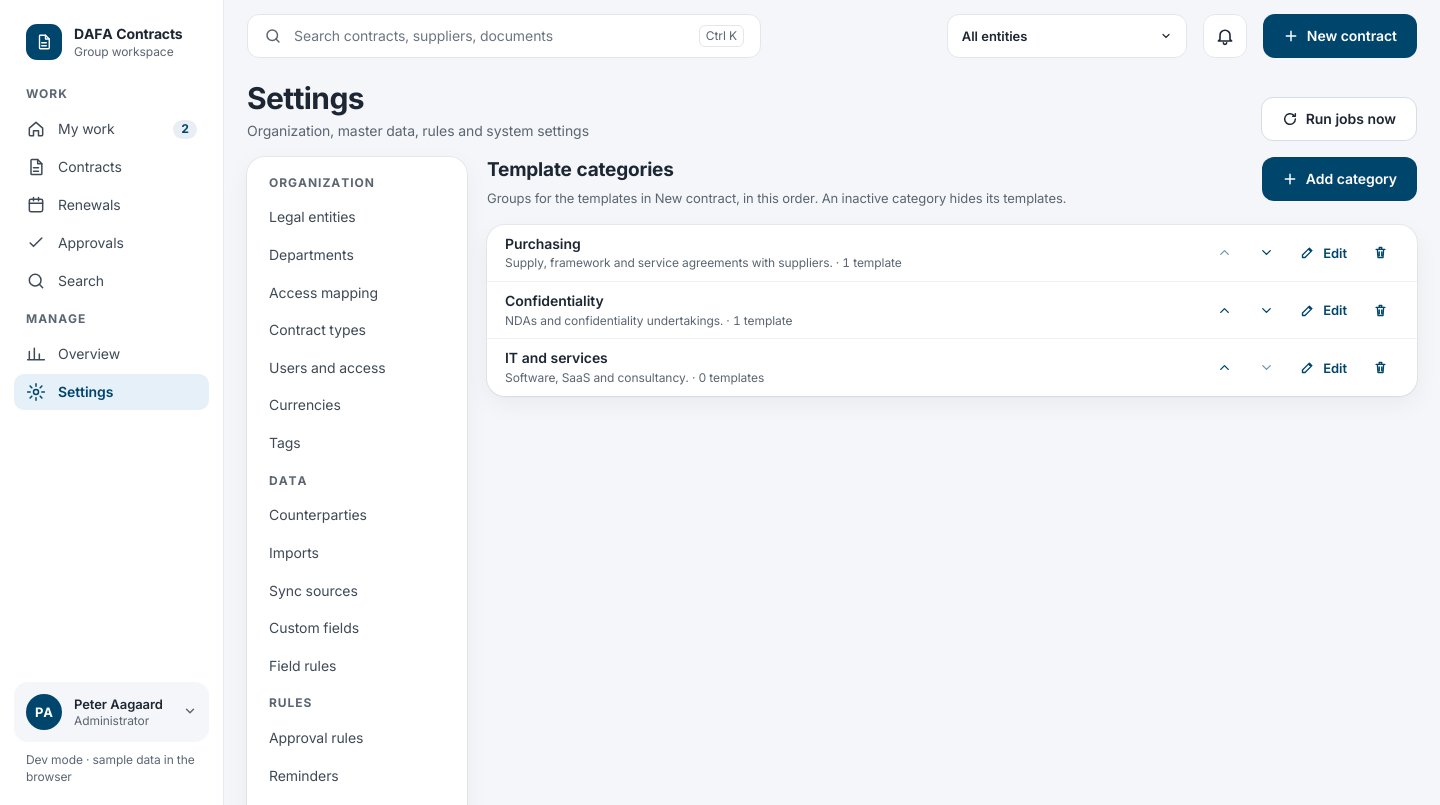
Test: Templates by category (owner item E) › an admin adds a category and it is listed
Click the button "Add category" at (1339, 179), box left=1262, top=157, right=1417, bottom=201
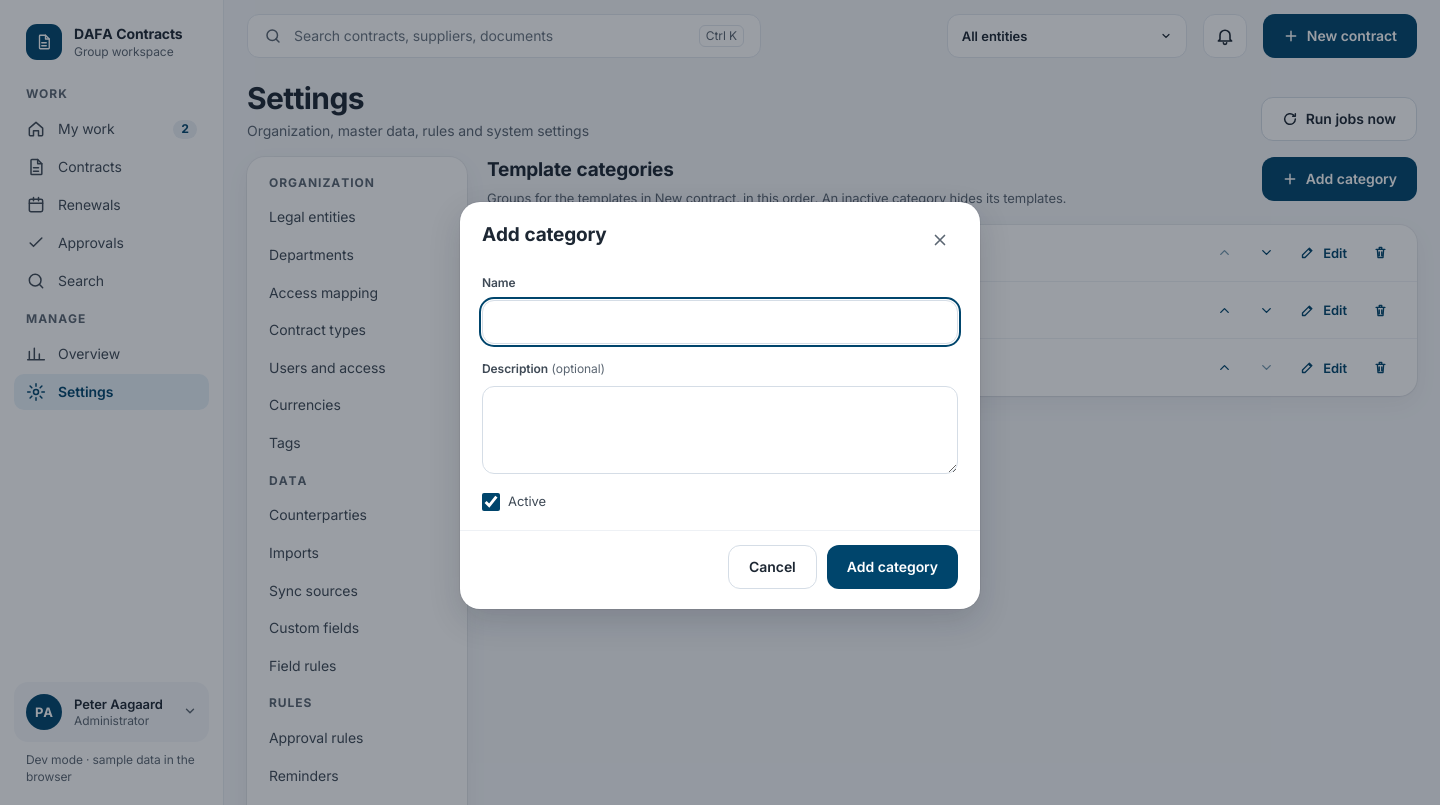
Type "Logistics" into the field labelled "Name" at (720, 322), box left=482, top=300, right=958, bottom=344
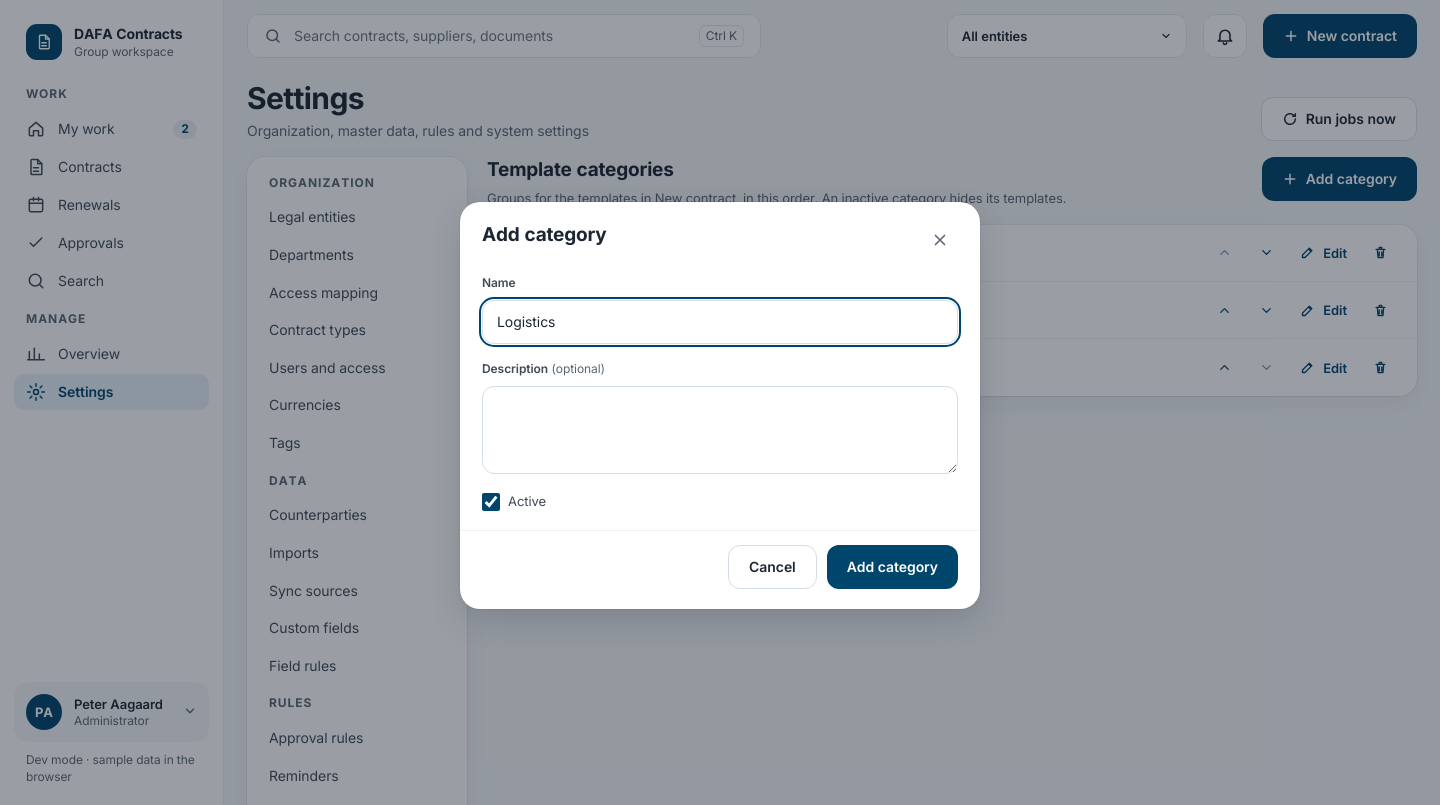
Click the button "Add category" at (892, 566), box left=827, top=544, right=958, bottom=588
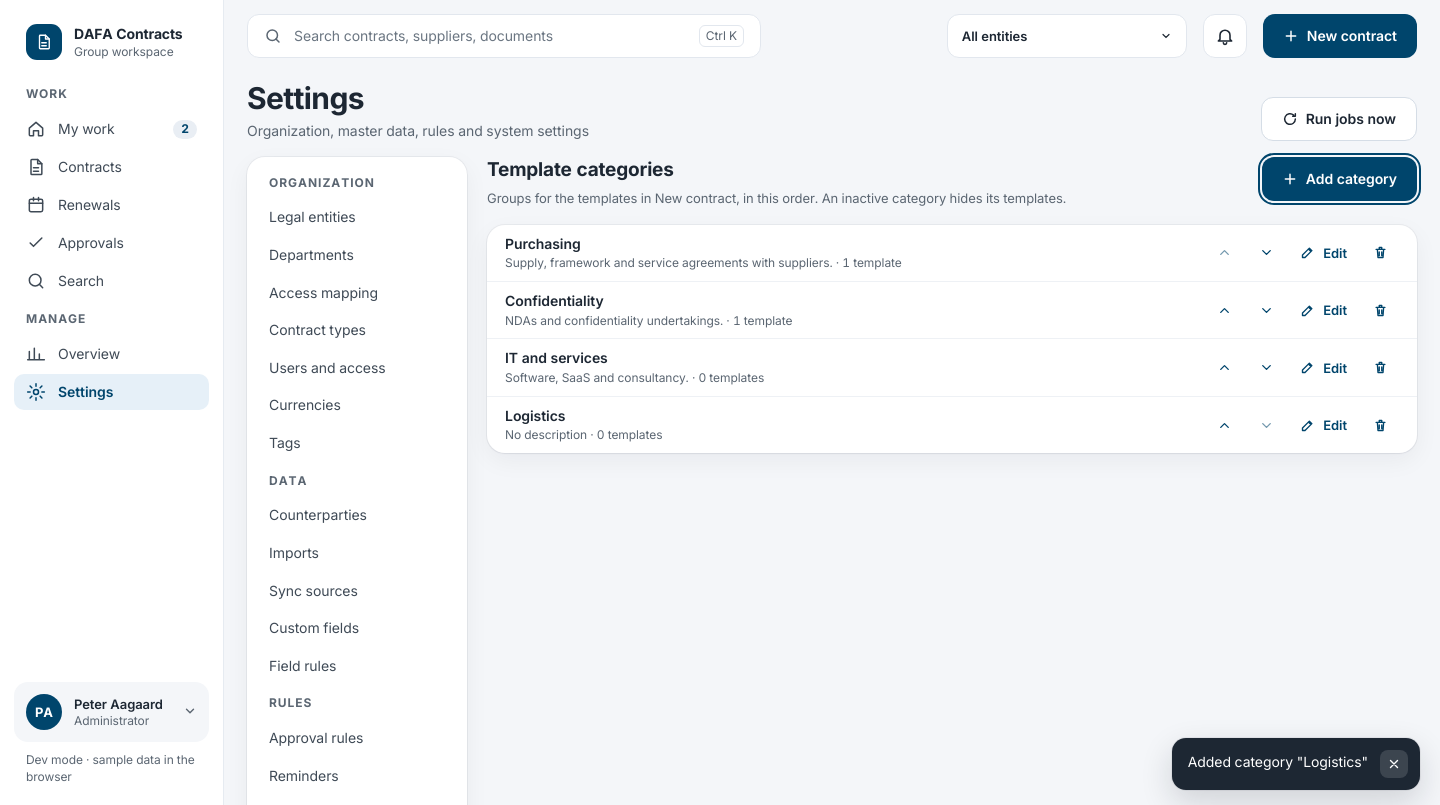
Now the text "Logistics" is shown, box left=505, top=407, right=565, bottom=424
